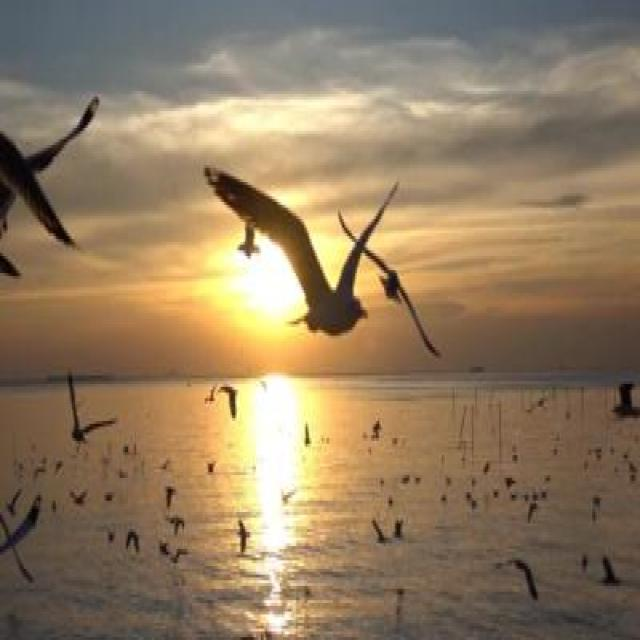birds: (199, 163, 400, 353), (332, 205, 454, 362), (63, 368, 119, 456), (486, 548, 546, 608), (611, 376, 638, 426), (217, 381, 242, 417), (234, 516, 250, 552), (68, 487, 92, 509), (167, 512, 186, 539), (199, 387, 220, 409), (300, 423, 315, 452)
